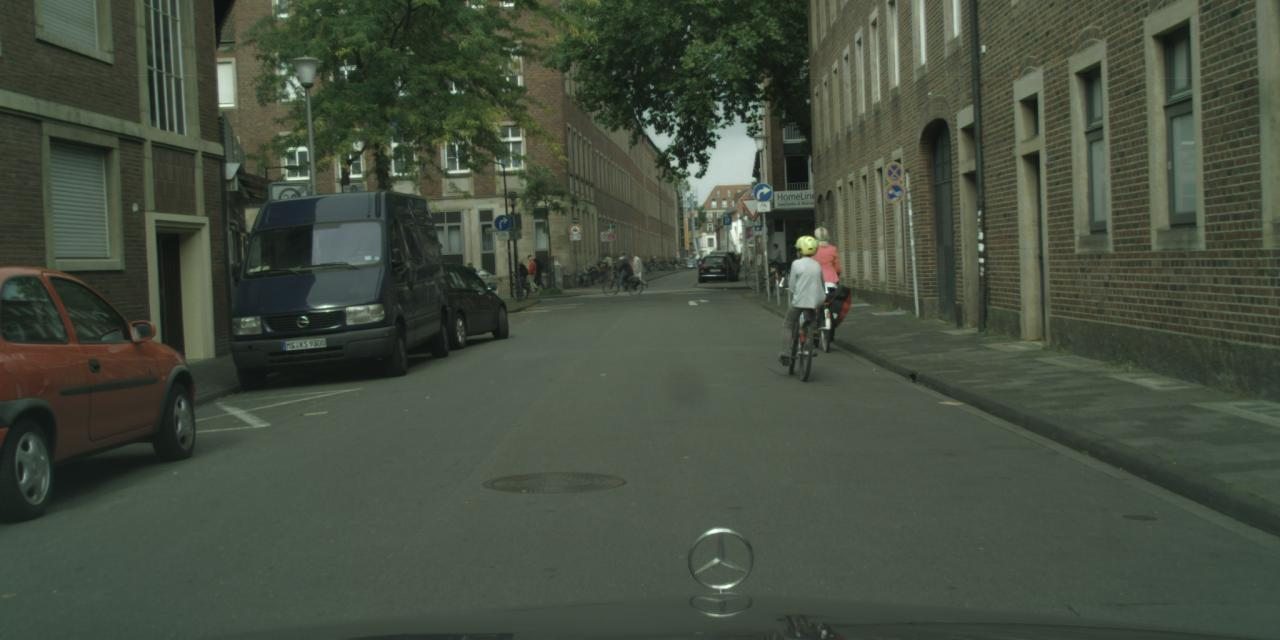ped: (781, 235, 828, 352), (798, 225, 844, 335), (616, 250, 632, 288), (526, 254, 541, 290), (768, 242, 782, 280), (524, 256, 539, 291), (463, 259, 477, 295), (629, 253, 643, 288), (616, 256, 630, 291), (515, 258, 528, 292), (603, 252, 614, 280)
